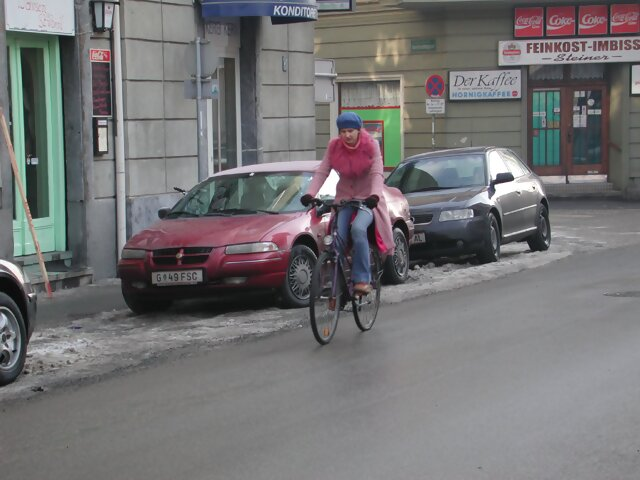person: (298, 108, 395, 303)
